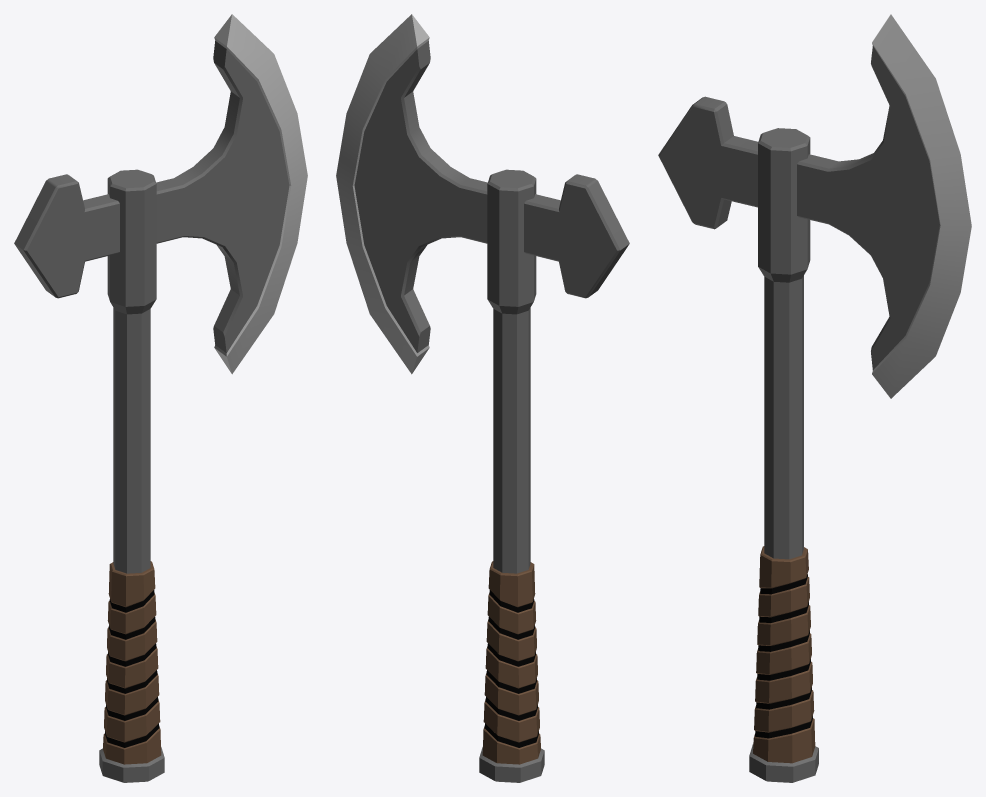
File: Axe_1.fbx
The picture shows the model from 3 angles, left to right: view 1: azimuth 30°, elevation 25°; view 2: azimuth 150°, elevation 25°; view 3: azimuth 330°, elevation 25°; orthographic projection. The views are drawn at different scales.
Parts seen in each view (by area): view 1: pCube7, pCylinder4; view 2: pCube7, pCylinder4; view 3: pCube7, pCylinder4.
Boxes of the visible parts, left/top/right/bottom form: pCube7: left=14, top=14, right=307, bottom=374; pCylinder4: left=99, top=169, right=164, bottom=782; pCube7: left=336, top=14, right=629, bottom=374; pCylinder4: left=479, top=169, right=544, bottom=782; pCube7: left=658, top=14, right=971, bottom=398; pCylinder4: left=749, top=128, right=818, bottom=782.
Bounding box in the file's own units: 1.7 × 4.11 × 0.3439.
